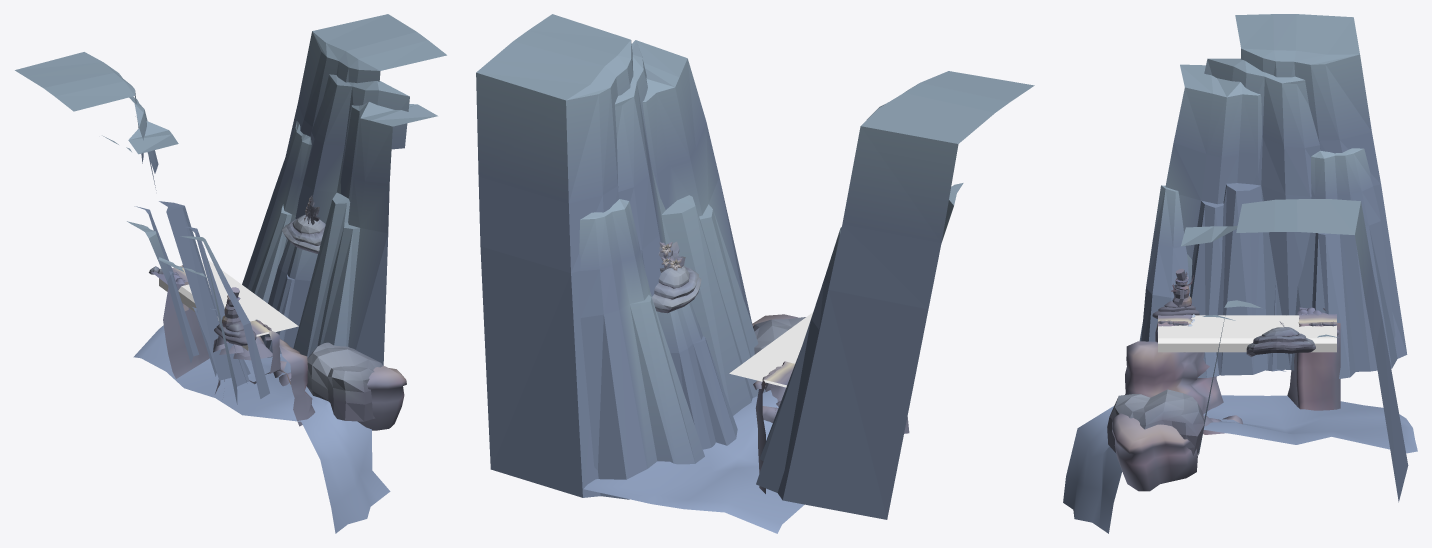
File: Arctic_Narrows_Right_Jump_A.glb
The picture shows the model from 3 angles, left to right: view 1: azimuth 30°, elevation 25°; view 2: azimuth 150°, elevation 25°; view 3: azimuth 270°, elevation 25°; orthographic projection. The views are drawn at different scales.
Parts seen in each view (by area): view 1: Arctic_Narrows_Left_IceWall_A01 (1), Arctic_Narrows_Right_Jump_A, Arctic_Narrows_Right_IceWall_A02 (1), Arctic_Narrows_Left_IceWall_A01_Left, Arctic_Narrows_SnowRock_A01, Arctic_Narrows_Left_IceWall_A01_Mid, inv_fill, Arctic_Narrows_Right_IceWall_A02_Mid, Arctic_Narrows_Right_IceWall_A02_Left; view 2: Arctic_Narrows_Left_IceWall_A01 (1), Arctic_Narrows_Right_IceWall_A02 (1), Arctic_Narrows_Left_IceWall_A01_Left, Arctic_Narrows_Right_Jump_A, Arctic_Narrows_Left_IceWall_A01_Mid, Arctic_Narrows_Right_IceWall_A02_Right, inv_fill, Arctic_Narrows_SnowRock_A01; view 3: Arctic_Narrows_Right_IceWall_A02 (1), Arctic_Narrows_Right_Jump_A, Arctic_Narrows_Right_IceWall_A02_Right, Arctic_Narrows_Left_IceWall_A01 (1), inv_fill, Arctic_Narrows_Right_IceWall_A02_Left, Arctic_Narrows_SnowRock_A01, Arctic_Narrows_Right_Snow_A01, Arctic_Snowman_01_holiday.
Part boxes in pixels (x1=…): Arctic_Narrows_Left_IceWall_A01 (1): x1=285, y1=14, x2=446, y2=365; Arctic_Narrows_Right_Jump_A: x1=133, y1=266, x2=406, y2=533; Arctic_Narrows_Right_IceWall_A02 (1): x1=15, y1=52, x2=249, y2=404; Arctic_Narrows_Left_IceWall_A01_Left: x1=242, y1=121, x2=311, y2=303; Arctic_Narrows_SnowRock_A01: x1=306, y1=342, x2=383, y2=421; Arctic_Narrows_Left_IceWall_A01_Mid: x1=260, y1=240, x2=317, y2=357; inv_fill: x1=159, y1=261, x2=298, y2=350; Arctic_Narrows_Right_IceWall_A02_Mid: x1=127, y1=221, x2=216, y2=376; Arctic_Narrows_Right_IceWall_A02_Left: x1=178, y1=236, x2=269, y2=398; Arctic_Narrows_Left_IceWall_A01 (1): x1=476, y1=14, x2=765, y2=497; Arctic_Narrows_Right_IceWall_A02 (1): x1=777, y1=71, x2=1034, y2=519; Arctic_Narrows_Left_IceWall_A01_Left: x1=579, y1=199, x2=704, y2=499; Arctic_Narrows_Right_Jump_A: x1=583, y1=314, x2=909, y2=533; Arctic_Narrows_Left_IceWall_A01_Mid: x1=657, y1=302, x2=737, y2=449; Arctic_Narrows_Right_IceWall_A02_Right: x1=756, y1=227, x2=841, y2=492; inv_fill: x1=729, y1=312, x2=813, y2=387; Arctic_Narrows_SnowRock_A01: x1=753, y1=317, x2=805, y2=389; Arctic_Narrows_Right_IceWall_A02 (1): x1=1139, y1=14, x2=1407, y2=375; Arctic_Narrows_Right_Jump_A: x1=1063, y1=307, x2=1417, y2=533; Arctic_Narrows_Right_IceWall_A02_Right: x1=1290, y1=148, x2=1397, y2=378; Arctic_Narrows_Left_IceWall_A01 (1): x1=1181, y1=199, x2=1408, y2=502; inv_fill: x1=1158, y1=315, x2=1336, y2=352; Arctic_Narrows_Right_IceWall_A02_Left: x1=1141, y1=185, x2=1219, y2=377; Arctic_Narrows_SnowRock_A01: x1=1107, y1=389, x2=1204, y2=455; Arctic_Narrows_Right_Snow_A01: x1=1246, y1=338, x2=1315, y2=356; Arctic_Snowman_01_holiday: x1=1171, y1=275, x2=1193, y2=307.
Size of what is drawn, in the model's own units: 25.77 by 26.53 by 21.17.
